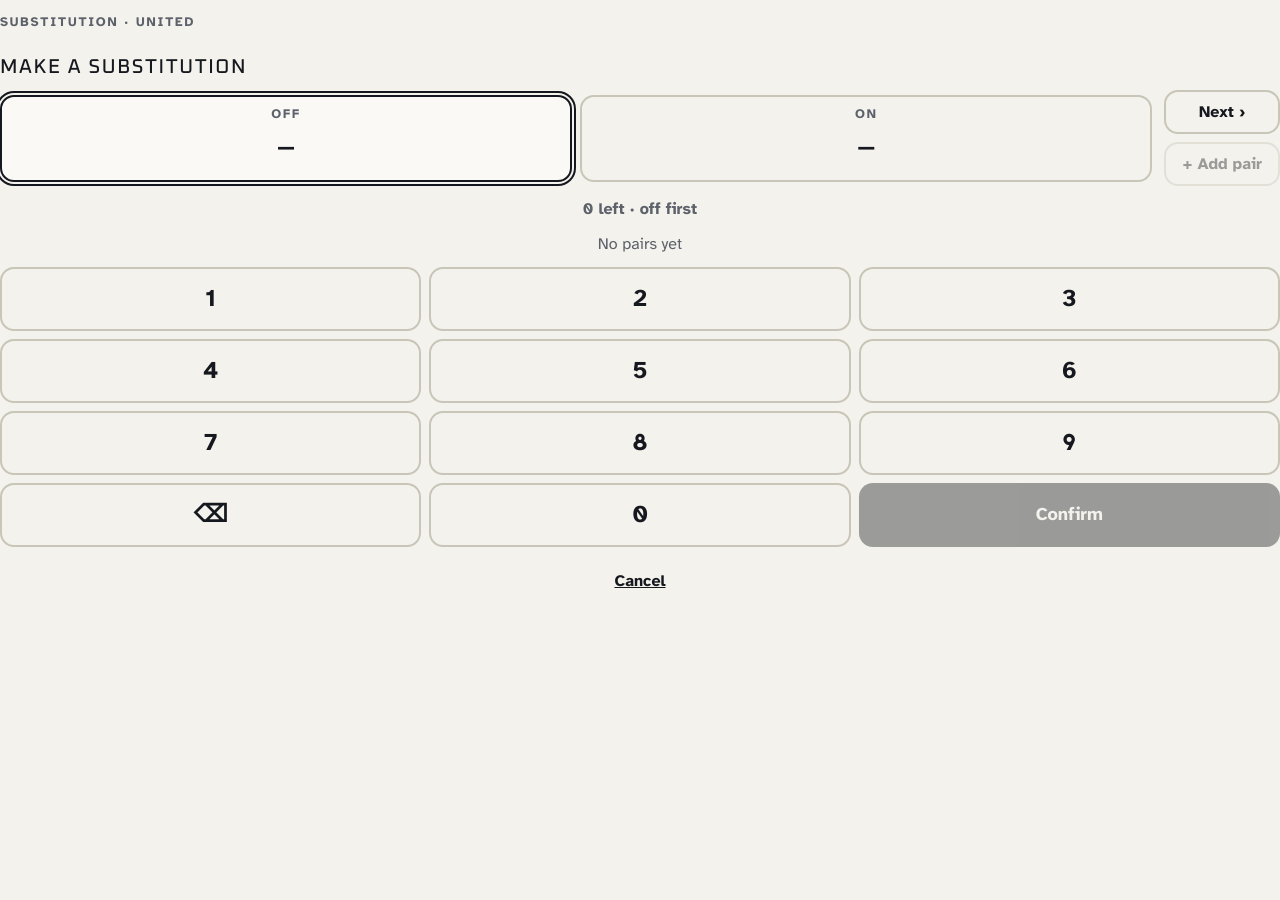
it: SubSheet › over the limit › warns when none are left
Click the button "5": (640, 371) x1=429 y1=339 x2=851 y2=403
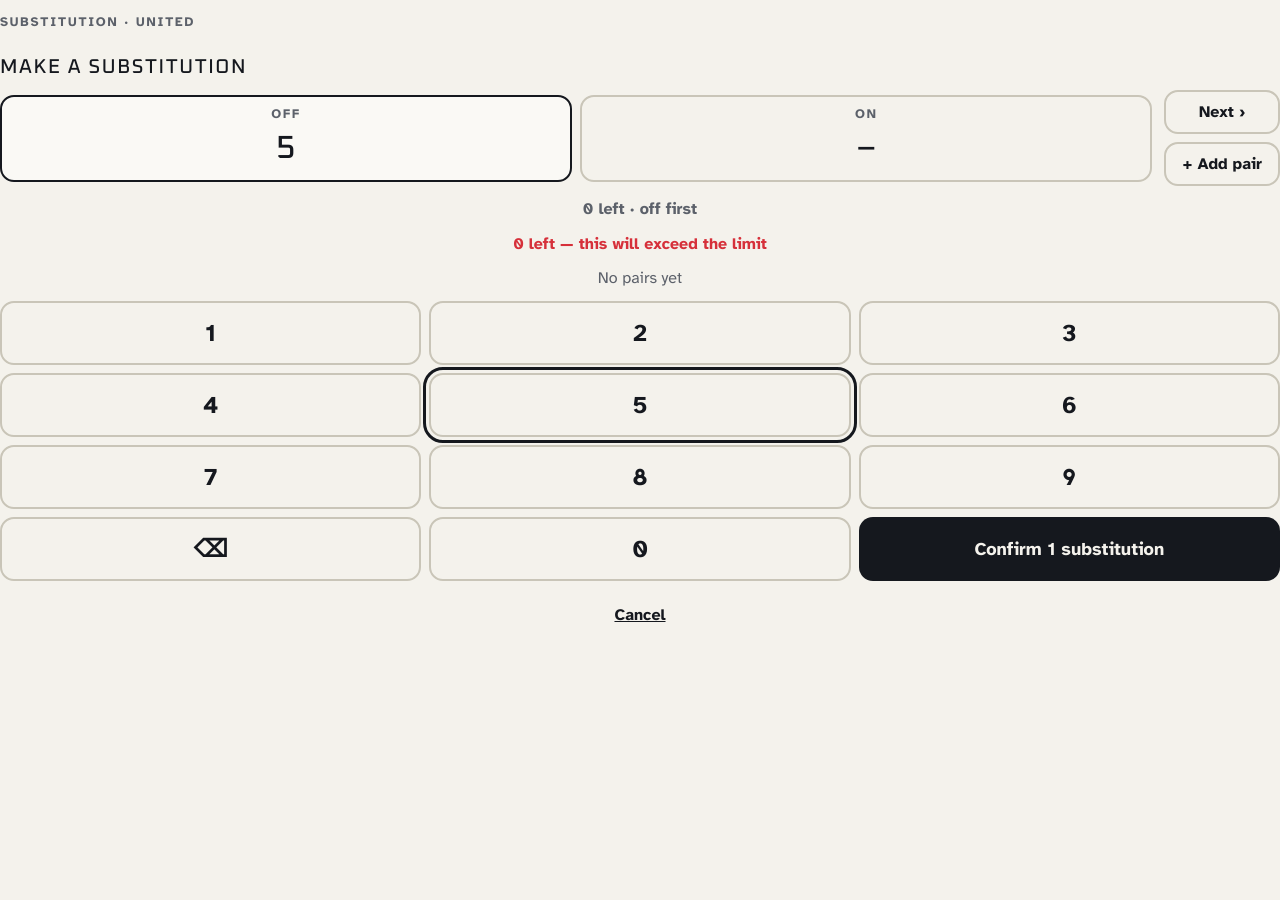
expect the message "0 left — this will exceed the limit" is shown: met, box x1=513 y1=234 x2=767 y2=254
expect the button "Confirm 1 substitution" is enabled: met, box x1=859 y1=517 x2=1279 y2=581
